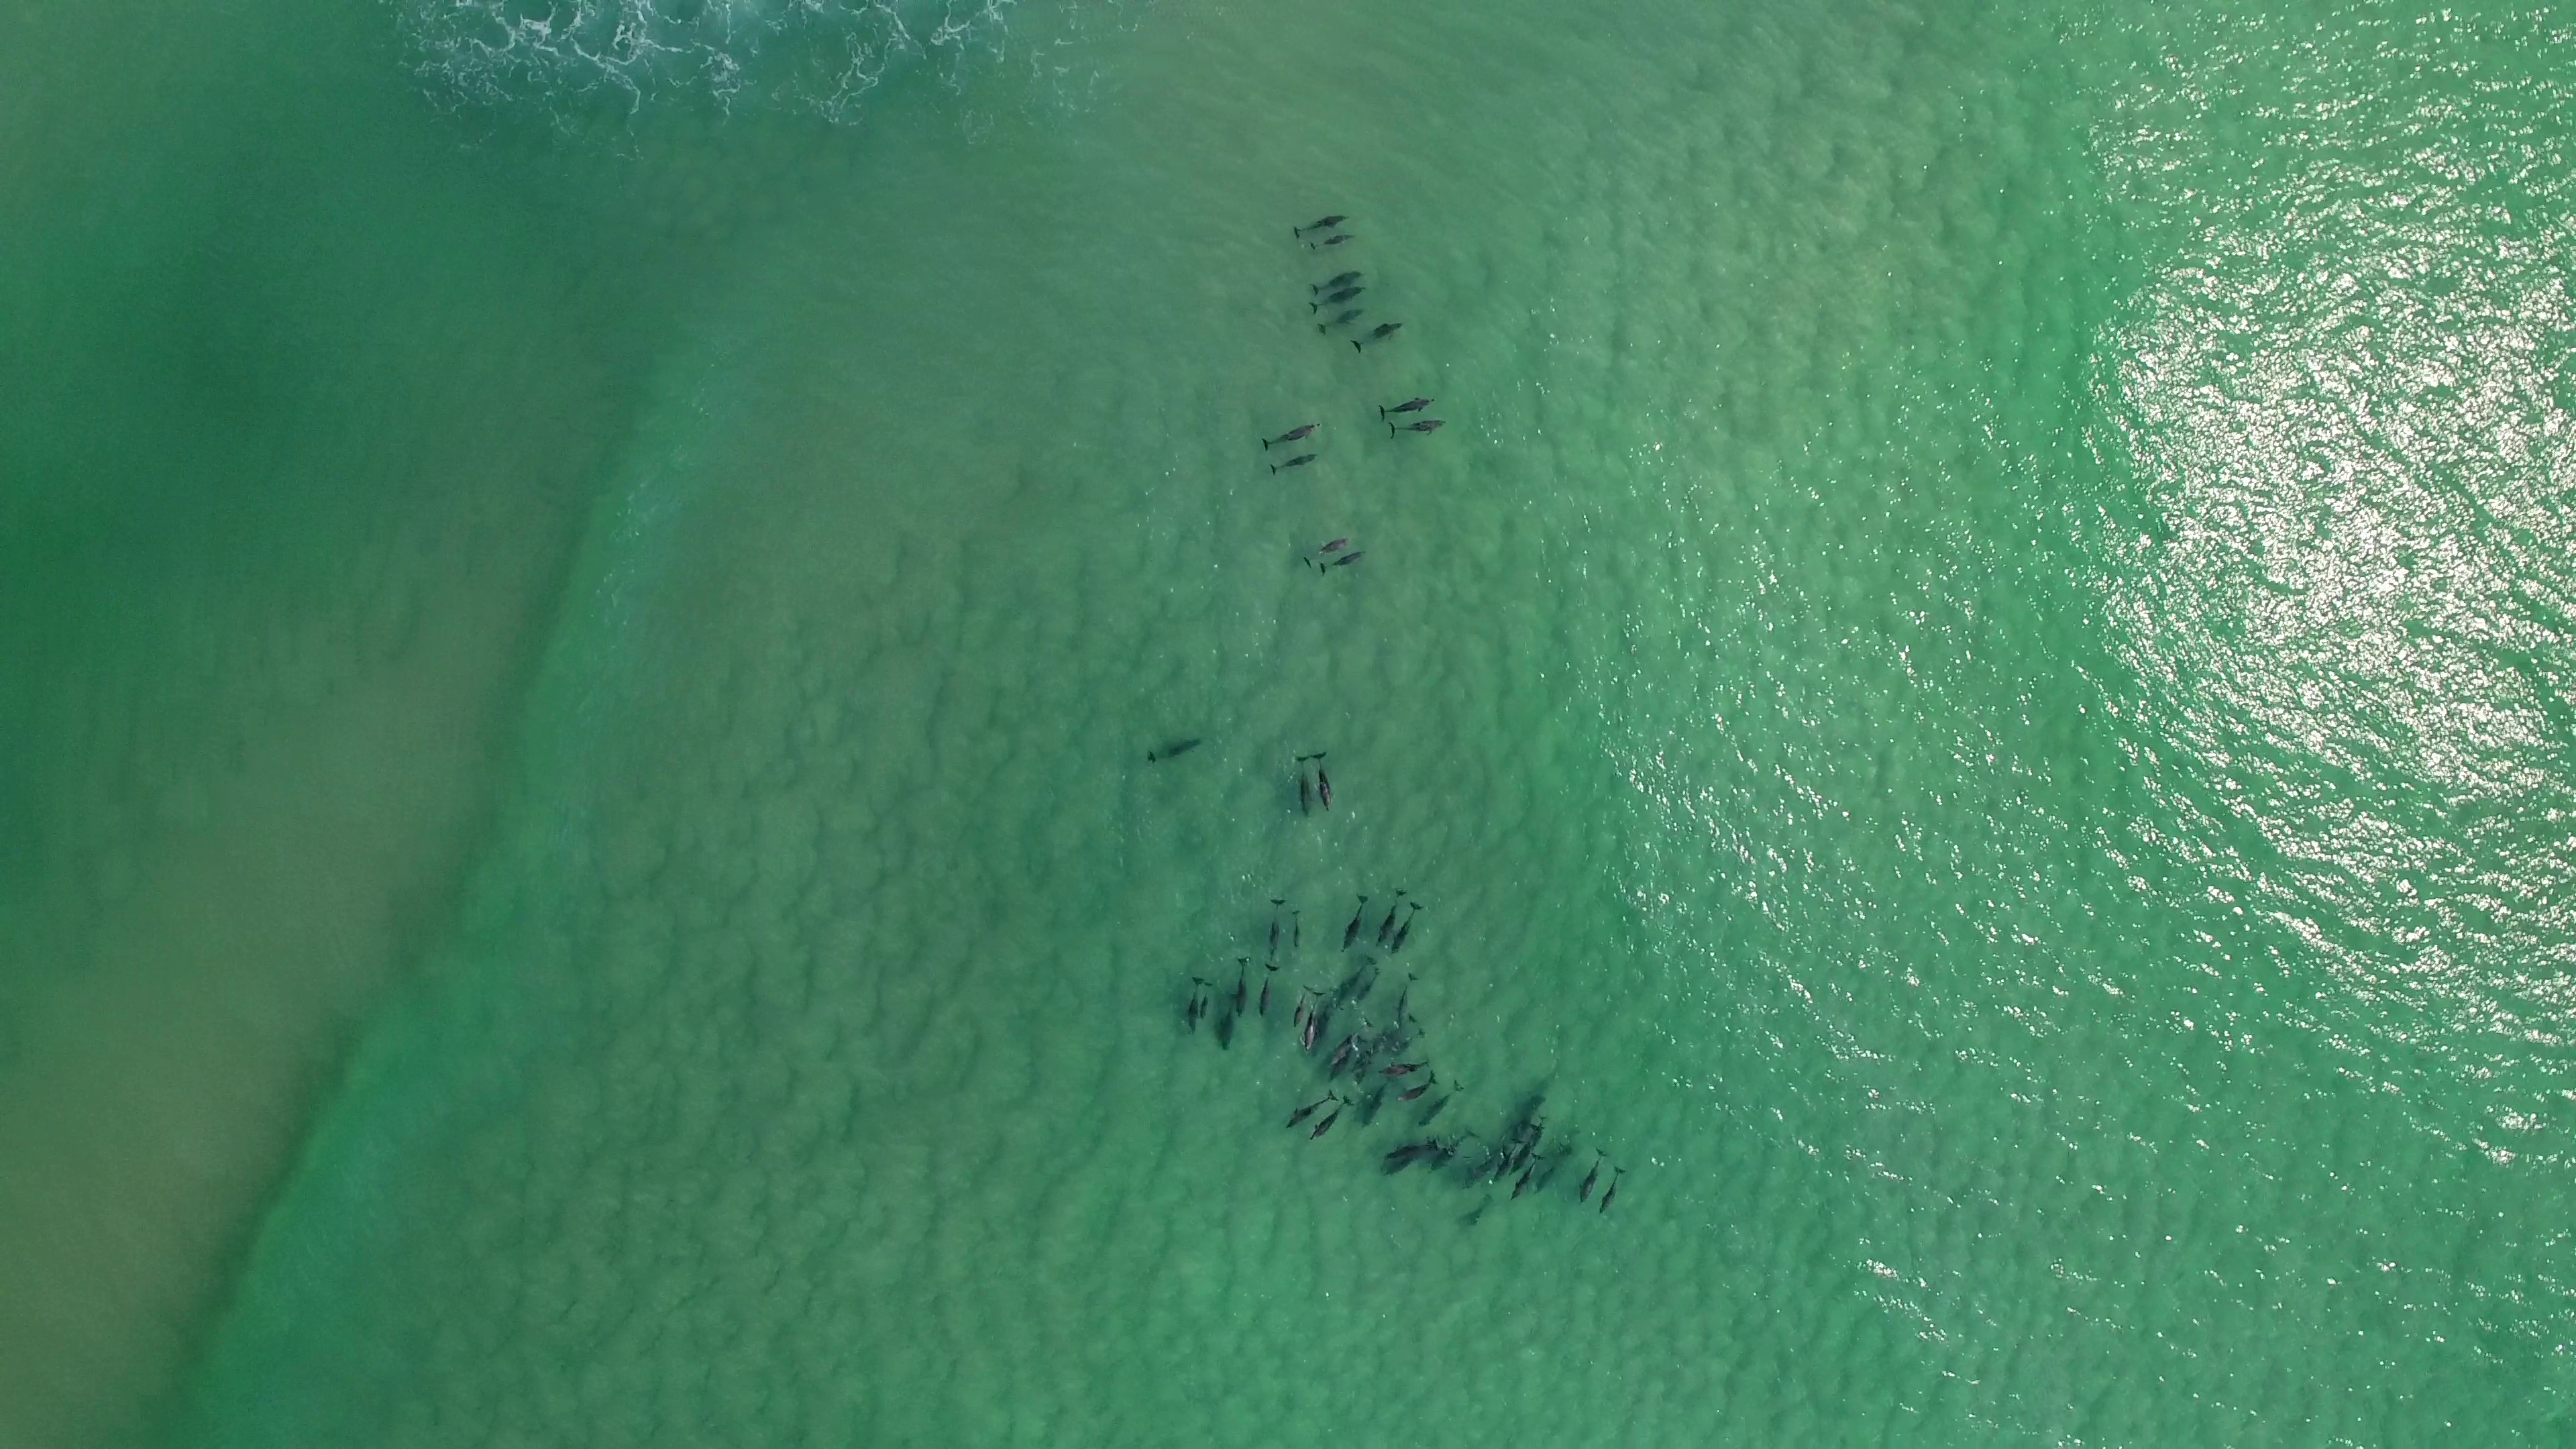dolphin: (1380, 1134, 1444, 1175), (1323, 959, 1376, 1007), (1355, 1024, 1396, 1081), (1283, 1088, 1338, 1129), (1307, 1093, 1352, 1143), (1419, 1079, 1463, 1127), (1431, 1125, 1474, 1175), (1536, 1141, 1573, 1198), (1375, 888, 1408, 947), (1350, 320, 1405, 356), (1307, 283, 1371, 313), (1261, 418, 1322, 449), (1338, 895, 1369, 955), (1330, 1016, 1371, 1062), (1313, 306, 1375, 336), (1309, 754, 1339, 814), (1511, 1125, 1546, 1175), (1302, 534, 1357, 566), (1391, 904, 1424, 955), (1146, 734, 1203, 764), (1376, 391, 1440, 418), (1178, 977, 1205, 1039), (1300, 991, 1327, 1053), (1391, 971, 1422, 1023), (1385, 414, 1454, 437), (1316, 545, 1366, 577), (1509, 1152, 1541, 1201), (1307, 267, 1366, 294), (1254, 966, 1283, 1019), (1270, 449, 1320, 479), (1491, 1136, 1522, 1185), (1580, 1146, 1606, 1201), (1292, 212, 1350, 237), (1265, 897, 1288, 959), (1350, 964, 1380, 1010), (1599, 1164, 1629, 1210), (1215, 994, 1238, 1053), (1286, 984, 1316, 1028), (1327, 1039, 1357, 1083), (1463, 1152, 1499, 1189), (1391, 1023, 1433, 1053), (1231, 954, 1251, 1019), (1394, 1077, 1444, 1102), (1361, 1081, 1387, 1127), (1378, 1056, 1433, 1077), (1295, 754, 1311, 819), (1306, 234, 1357, 248), (1196, 982, 1215, 1019), (1292, 909, 1302, 954)
